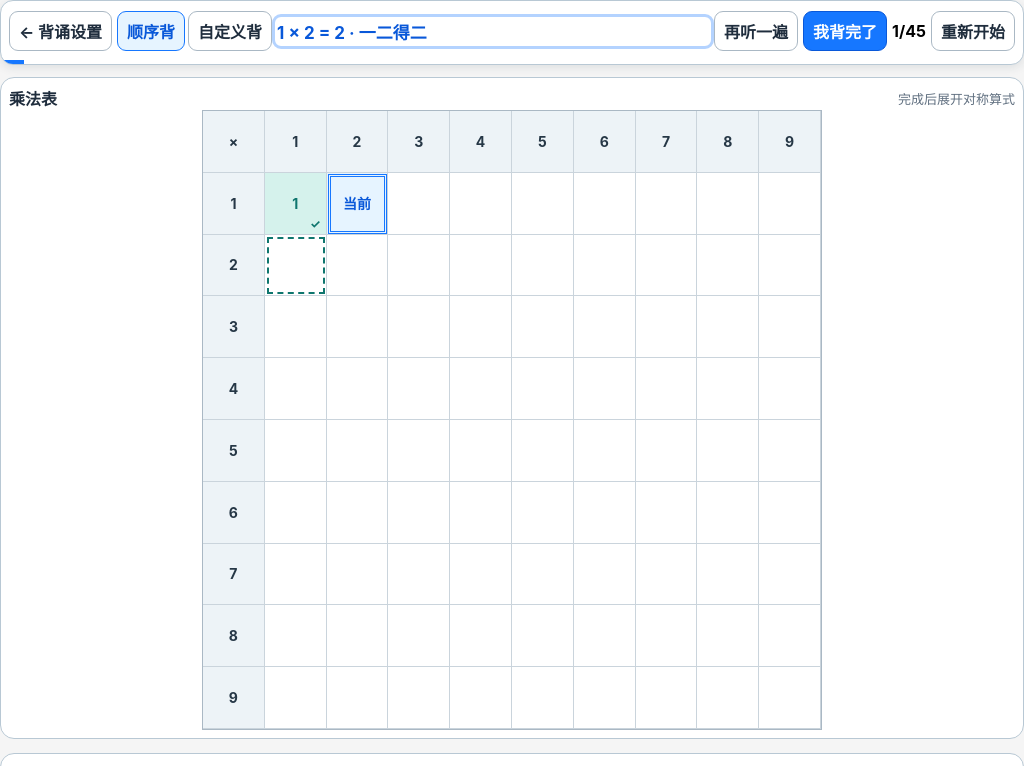
MultiplicationRecitation 顺序背与自定义背 › 普通口诀展开两个交换律格，平方口诀只展开一个格
Click the button "我背完了": [845, 31] box [803,11,887,51]
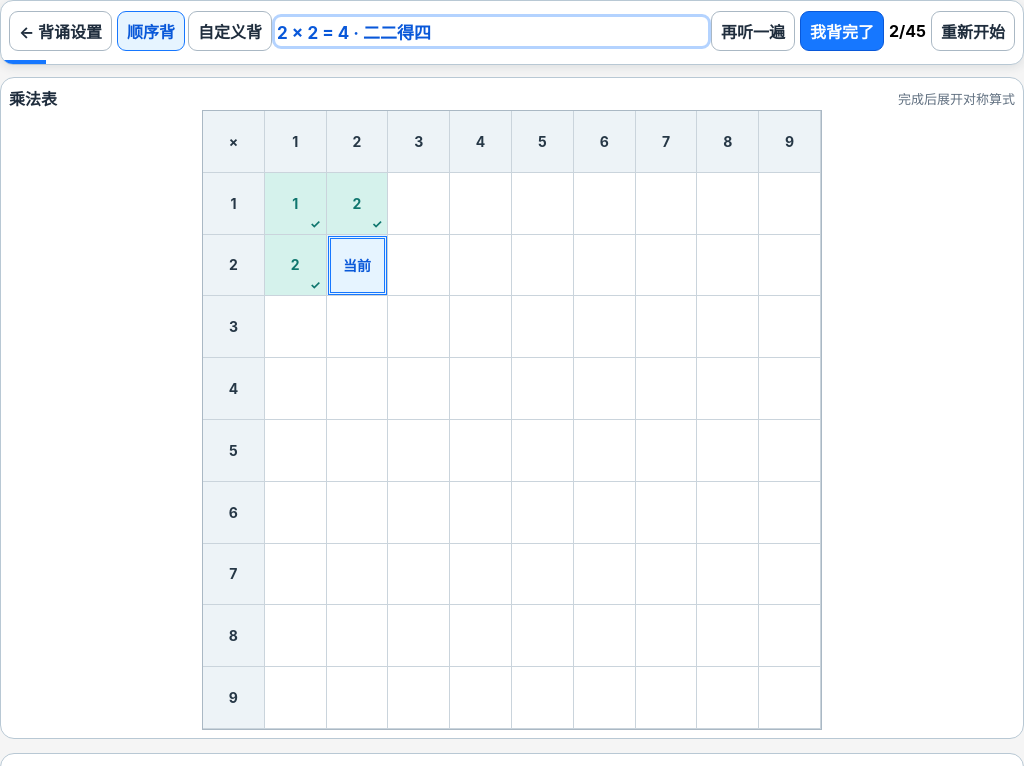
Expected: the cell named "1乘2等于2，已背" is shown, [327,173,388,235]
Expected: the cell named "2乘1等于2，已背" is shown, [265,235,327,296]
Click the button "我背完了": [842, 31] box [800,11,884,51]
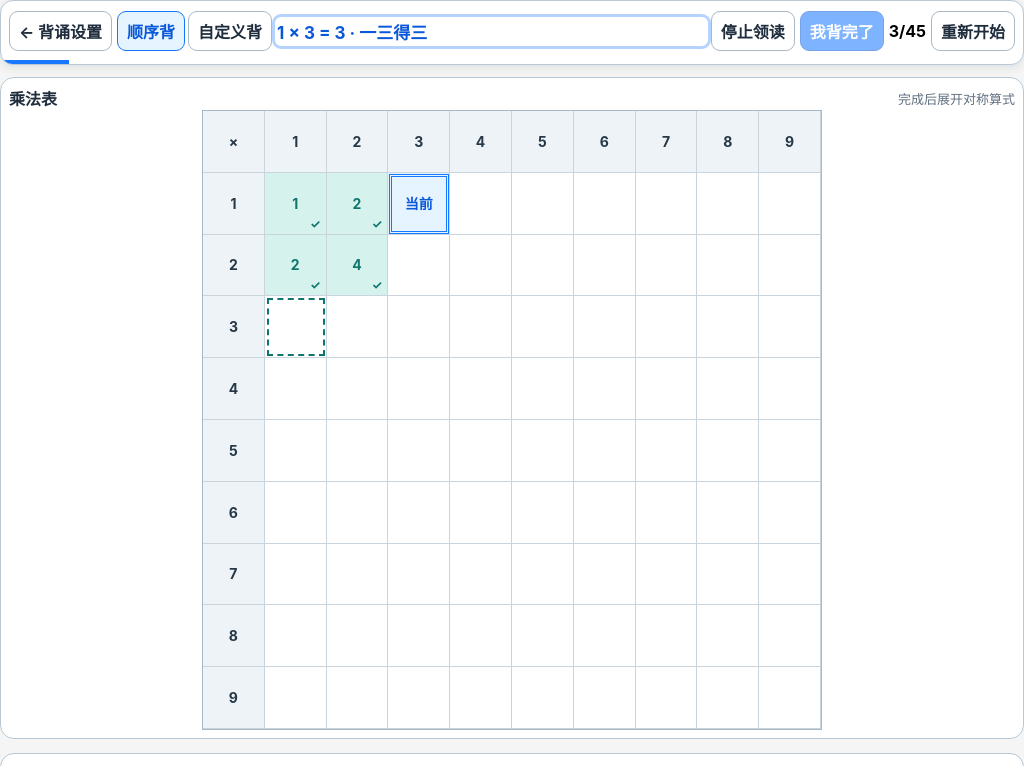
Expected: the cell named "2乘2等于4，已背" is shown, [327,235,388,296]
Expected: the text "1 × 3 = 3 · 一三得三" is shown, [277,22,427,42]
